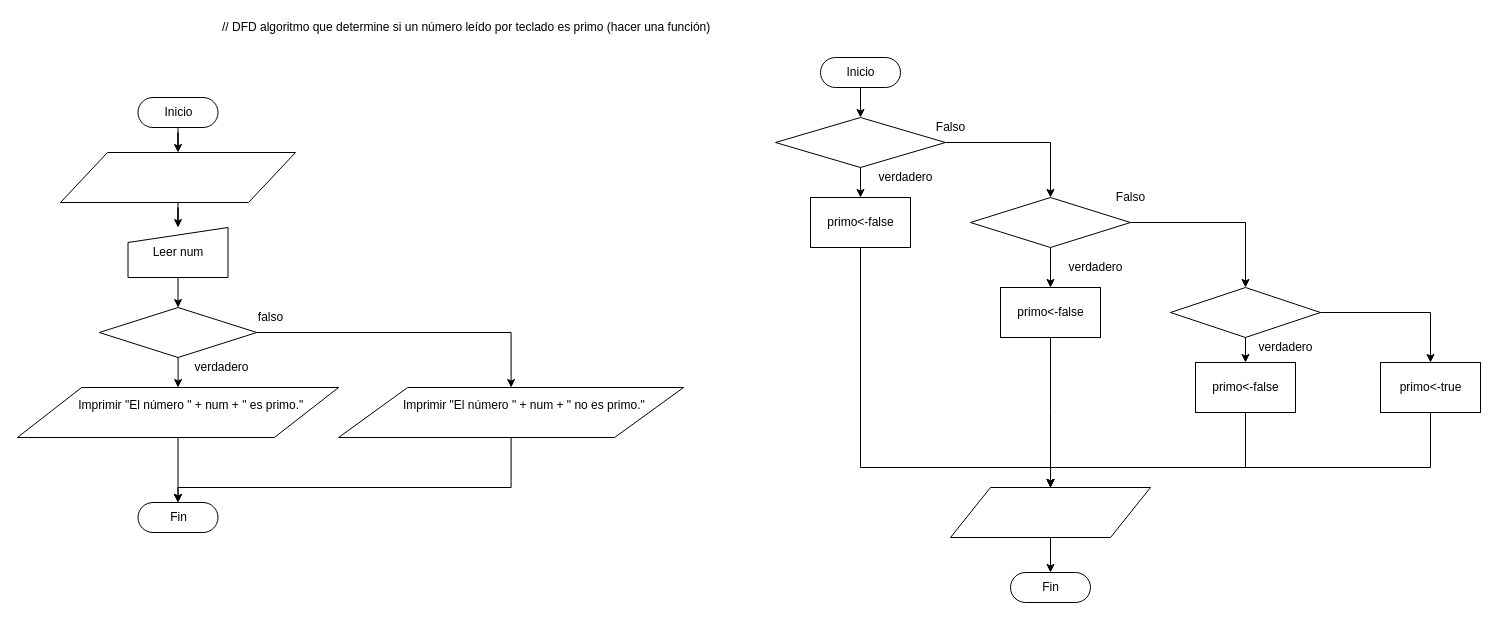
Image size: 1499x620. Some labels were removed from this diagram. The box of each missing label's shape, as (x1, y1, x2, y2) in pixels:
Imprimir "Introduzca un número": (60, 152, 296, 202)
num>2 and num/2=0: (774, 116, 946, 168)
num>3 and num/3=0: (970, 196, 1130, 248)
num>5 and num/5=0: (1170, 286, 1320, 338)
primo(num)=true: (98, 306, 257, 358)
retornar primo: (950, 486, 1150, 538)
